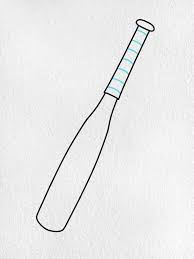baseball bat: (31, 19, 155, 232)
